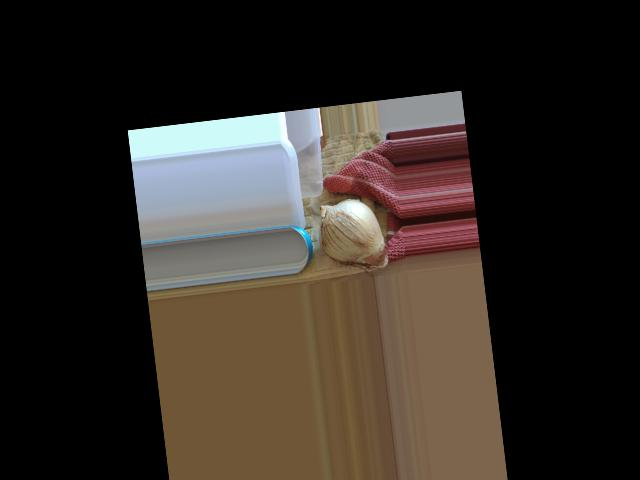onion: (314, 196, 389, 273)
